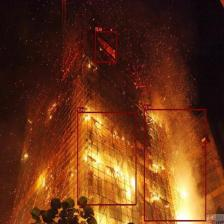fire: (144, 109, 206, 221), (78, 111, 136, 205), (95, 31, 117, 62)
